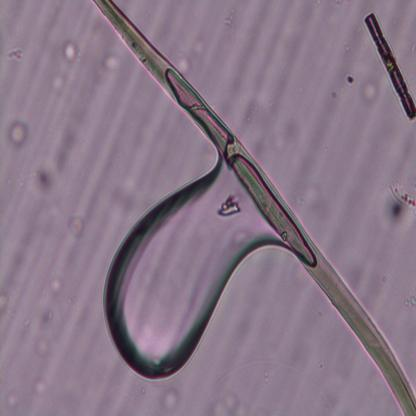Air bubble: (102, 153, 282, 386)
Background material: (361, 10, 416, 122), (383, 173, 416, 226), (296, 177, 326, 225), (34, 307, 56, 353), (89, 51, 118, 84), (6, 116, 32, 151), (54, 136, 77, 172), (241, 92, 263, 127), (216, 190, 241, 218), (212, 395, 243, 416), (65, 215, 87, 241), (33, 167, 54, 194), (26, 373, 49, 397), (60, 40, 82, 64), (161, 383, 177, 412), (45, 276, 67, 296), (176, 52, 192, 77), (216, 6, 235, 27), (48, 72, 66, 94), (365, 76, 379, 104), (0, 284, 11, 314), (3, 390, 20, 409), (6, 47, 24, 61), (404, 291, 416, 309), (345, 73, 357, 83), (315, 360, 326, 370), (330, 90, 337, 102)
Microfibre: (92, 0, 416, 416)
